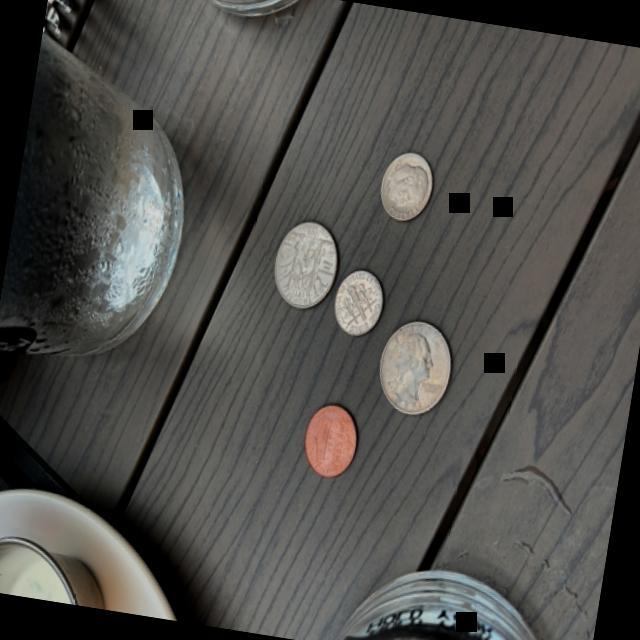Dime: (375, 144, 438, 228), (329, 265, 389, 341)
Penny: (298, 398, 364, 482)
Quarter: (371, 314, 459, 420), (267, 214, 345, 316)
